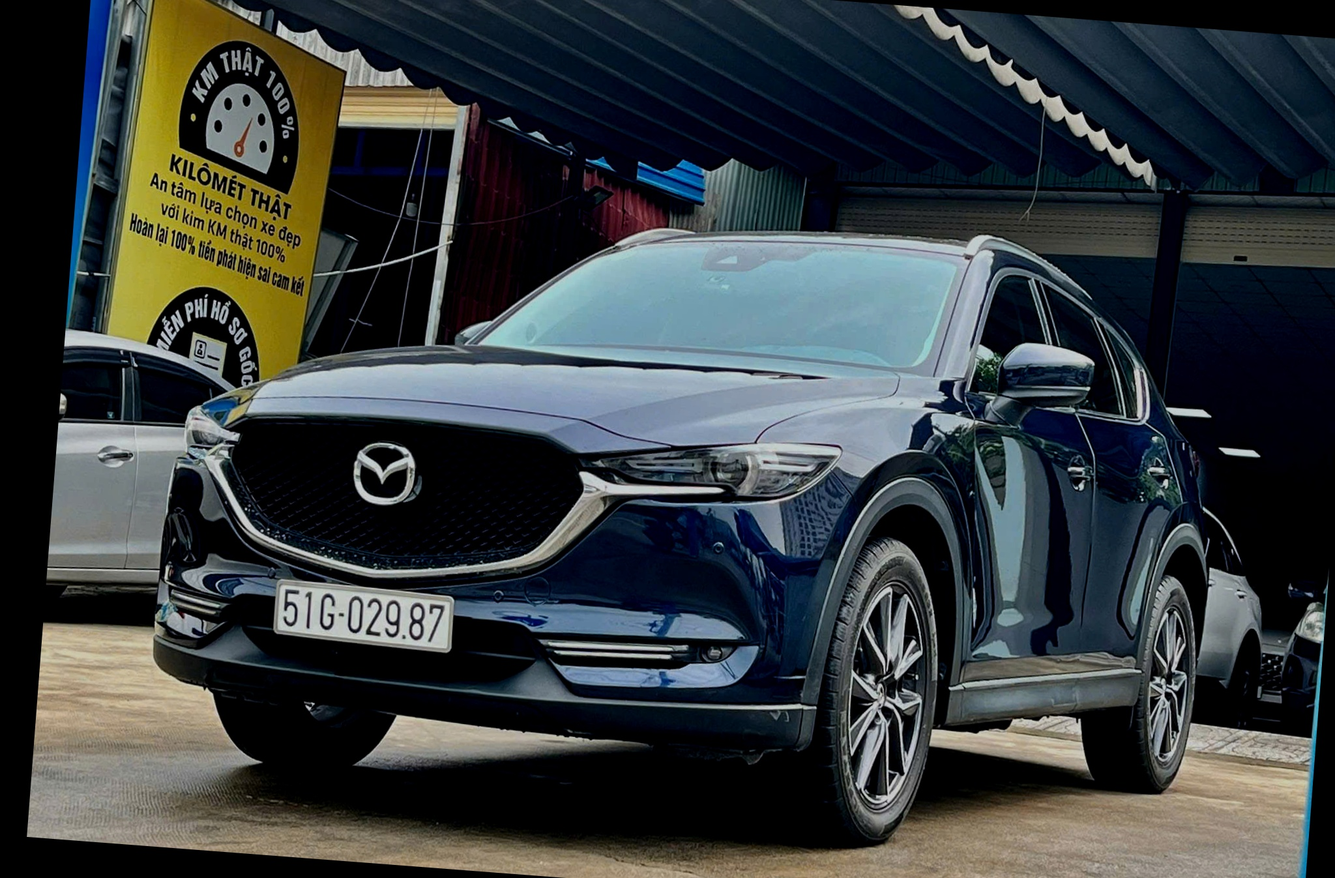Bien-so: (290, 574, 476, 638)
